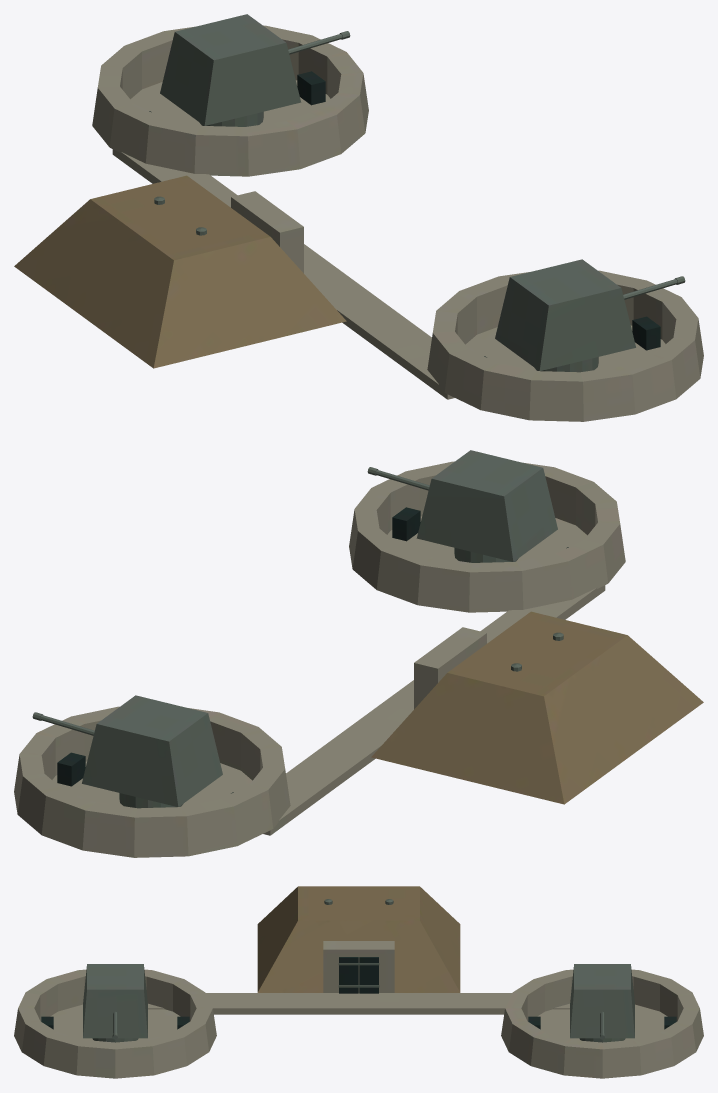
The model's file is coastal-gun-battery.glb.
The picture shows the model from 3 angles, top to bottom: view 1: azimuth 30°, elevation 25°; view 2: azimuth 150°, elevation 25°; view 3: azimuth 270°, elevation 25°; orthographic projection. The views are drawn at different scales.
Visible parts, largest first — view 1: coastal-gun-battery_concrete, Turret2, Turret1; view 2: coastal-gun-battery_concrete, Turret1, Turret2; view 3: coastal-gun-battery_concrete, Turret1, Turret2.
Part boxes in pixels (box(x1,y1,x2,y2)): coastal-gun-battery_concrete: box(14, 25, 703, 421); Turret2: box(495, 259, 685, 372); Turret1: box(160, 14, 350, 126); coastal-gun-battery_concrete: box(14, 461, 703, 857); Turret1: box(32, 695, 222, 808); Turret2: box(367, 450, 557, 562); coastal-gun-battery_concrete: box(14, 886, 703, 1078); Turret1: box(570, 964, 634, 1042); Turret2: box(83, 964, 147, 1042).
Bounding box in the file's own units: 18 × 3.5 × 34.
Materials: 1 (1 with a texture image).
